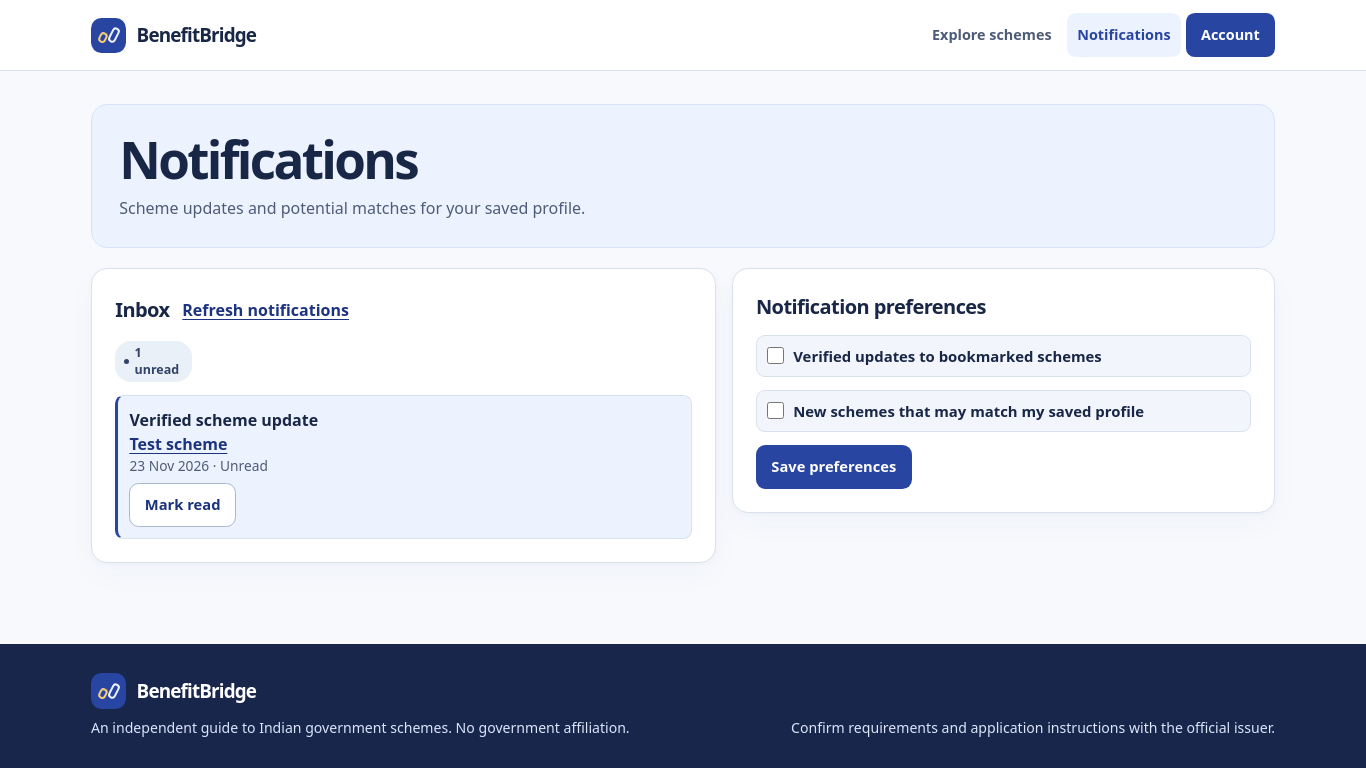
Test: shows the in-app inbox, saves preferences, and toggles read status
The width and height of the screenshot is (1366, 768).
expect the text "1 unread" is shown: met, box [115,341,192,382]
Click the checkbox labelled "Verified updates to bookmarked schemes": (775, 356) [767,347,784,364]
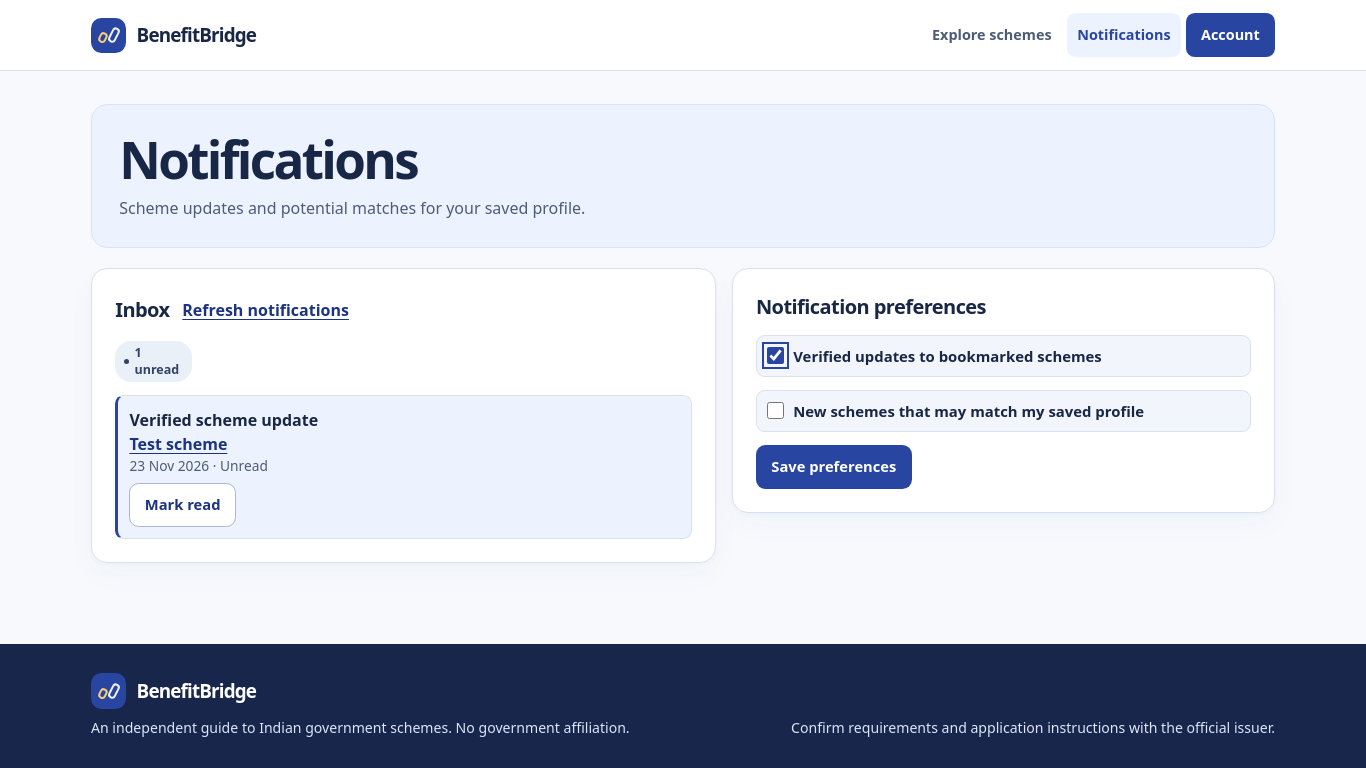
Click the button "Save preferences": (834, 467) [756,445,912,489]
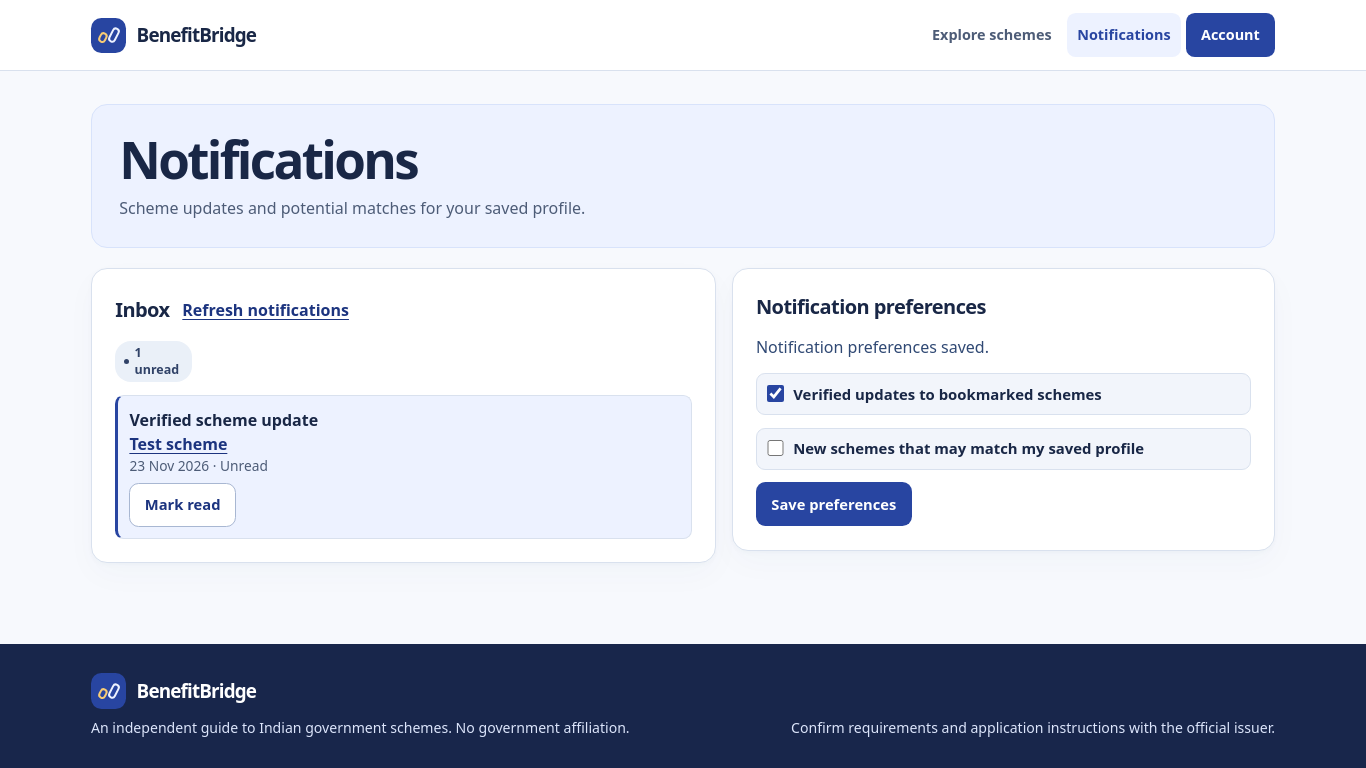
expect the text "Notification preferences saved." is shown: met, box [756,336,989,358]
Click the button "Mark read": (183, 504) [129,482,236,526]
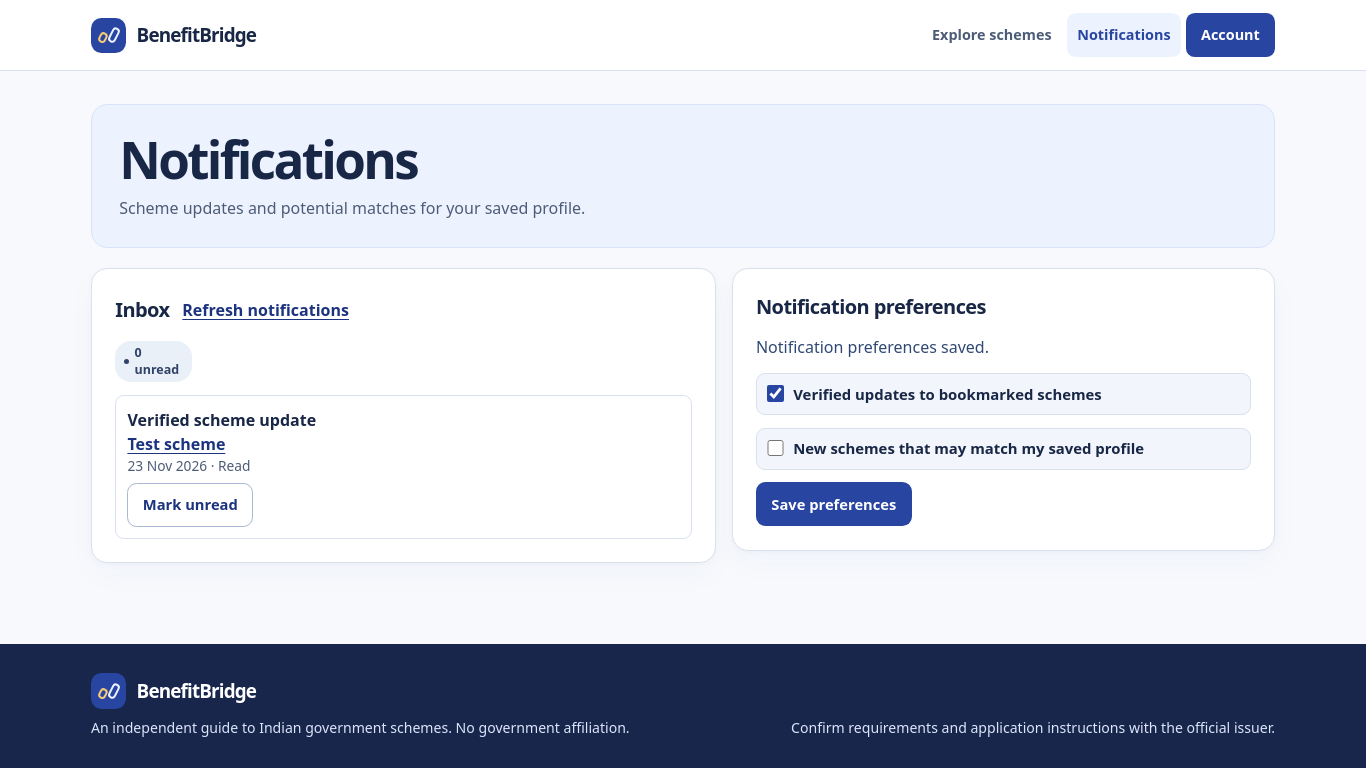
expect the text "0 unread" is shown: met, box [115,341,192,382]
Click the button "Mark unread": (190, 504) [127,482,253,526]
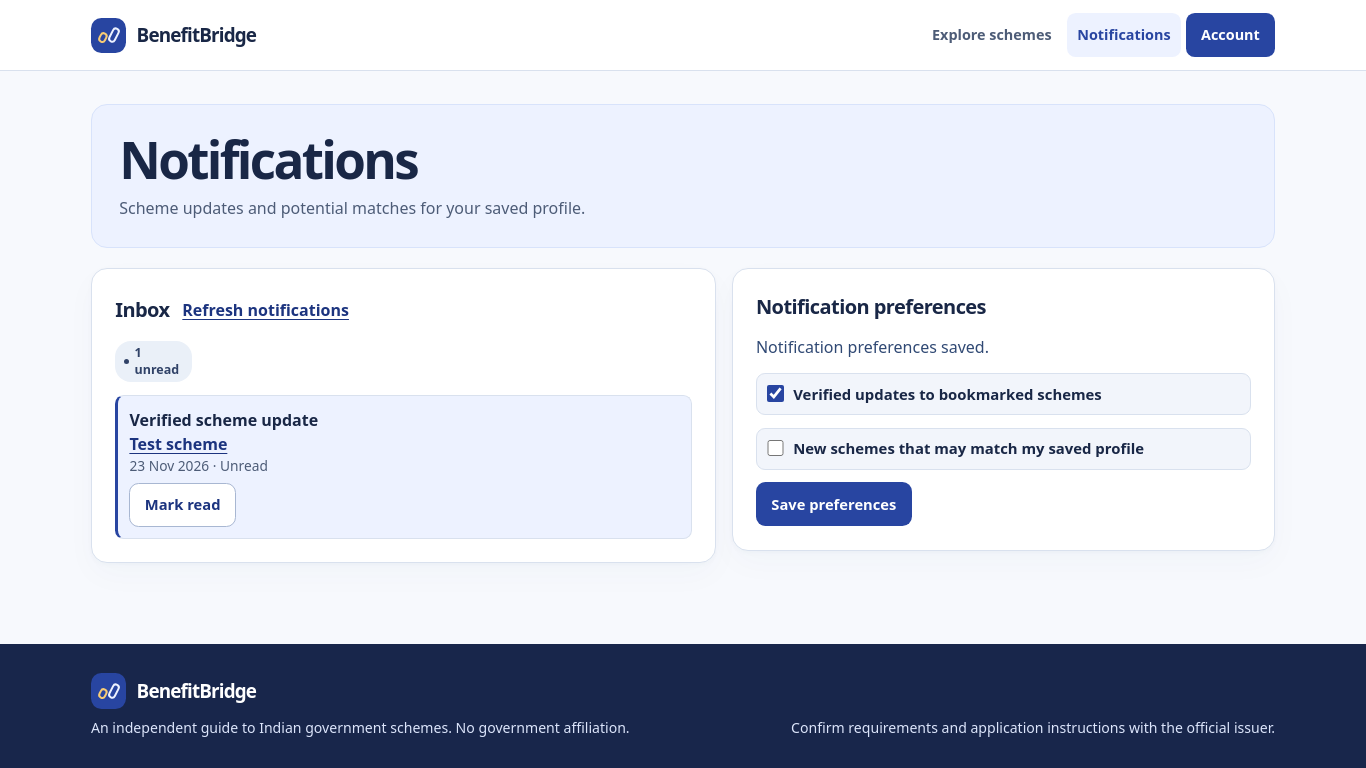
expect the text "1 unread" is shown: met, box [115,341,192,382]
